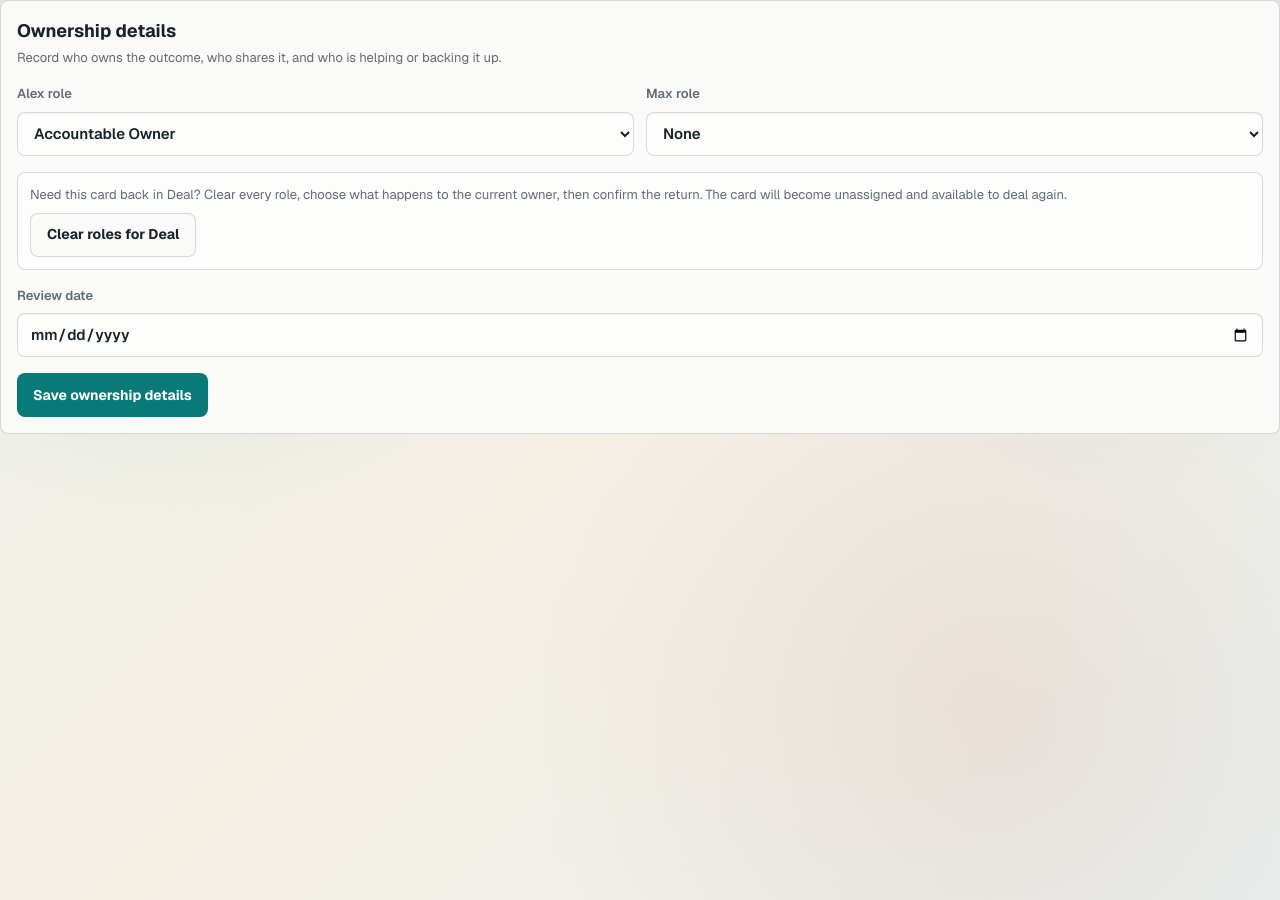
Test: OwnershipDetails › requires an explicit handoff choice when an owner is removed
The image size is (1280, 900).
Select "None" in the dropdown labelled "Alex role" at (326, 134), box [17,112,634,156]
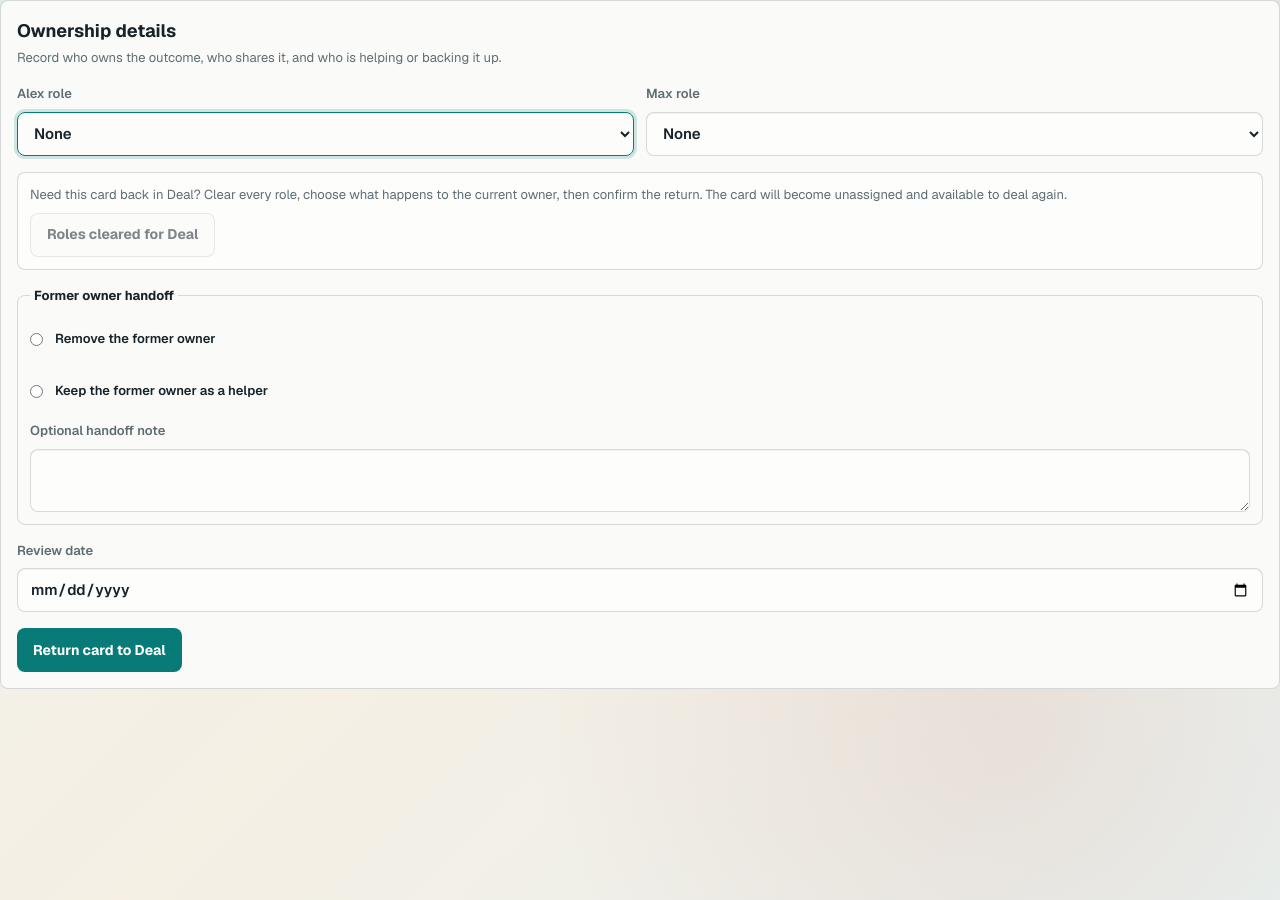
Select "Accountable Owner" in the dropdown labelled "Max role" at (954, 134), box [646,112,1263,156]
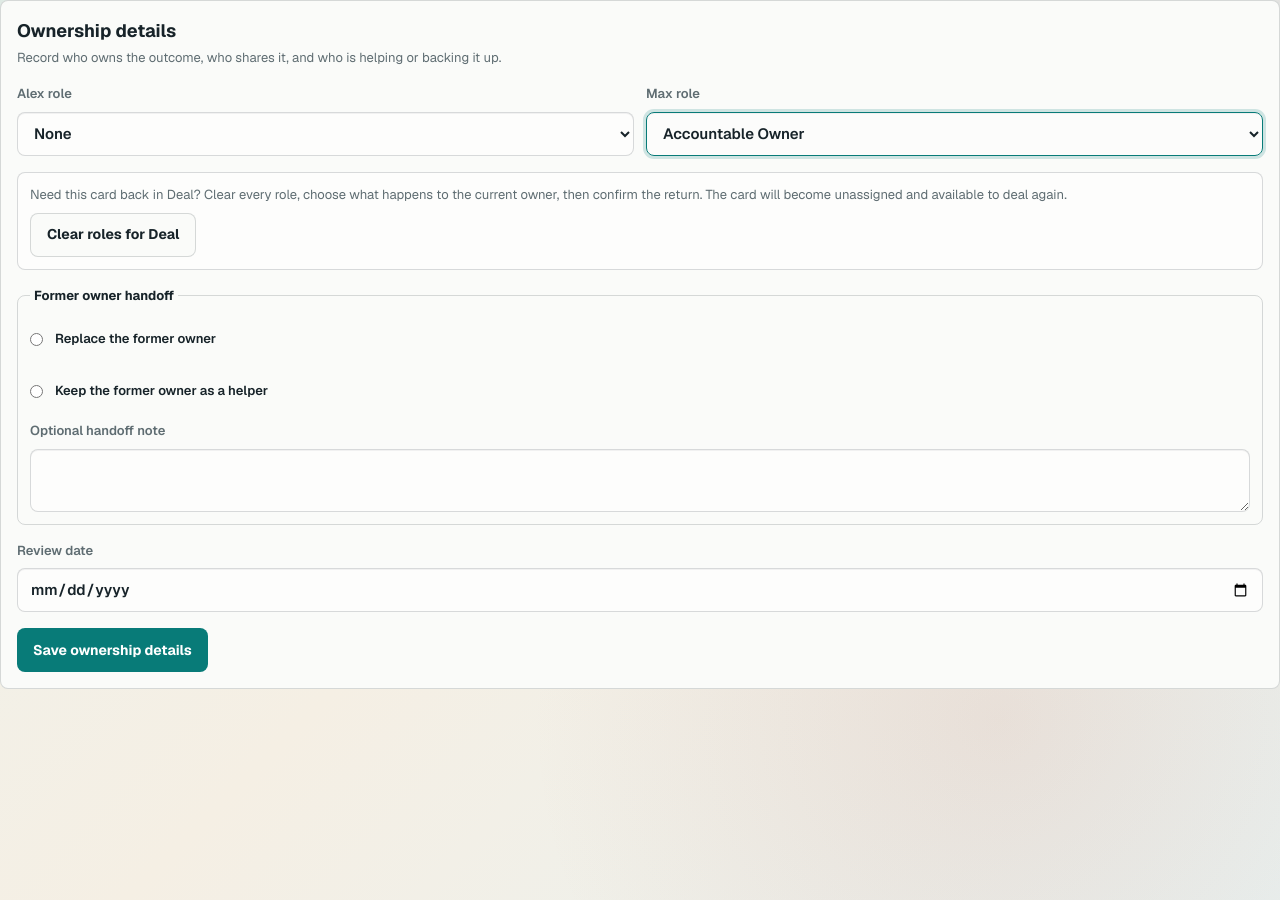
Click the button "Save ownership details" at (112, 650), box [17,628,208,672]
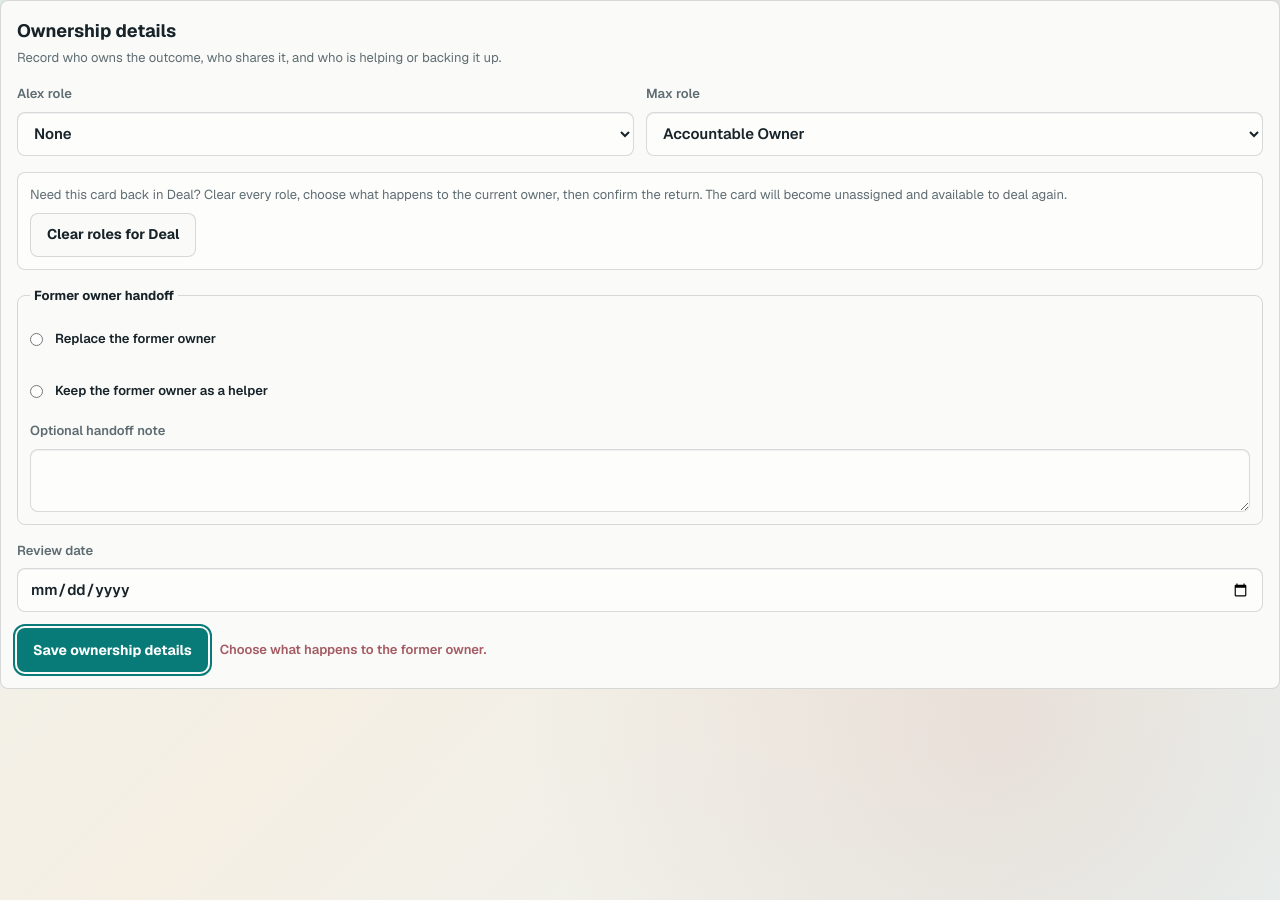
Now the message reads "Choose what happens to the former owner.", box [220,641,486,658]
